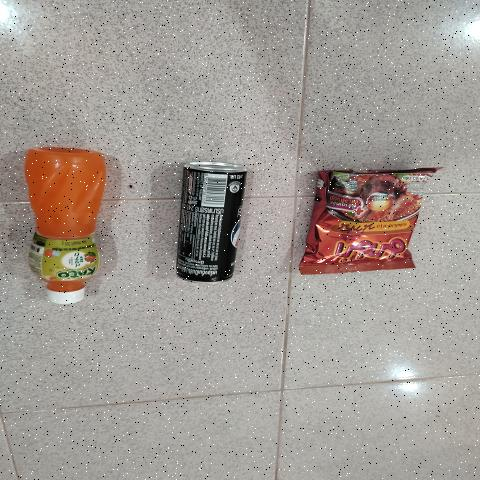mama: (313, 175, 422, 267)
pepsi_black: (176, 166, 238, 282)
